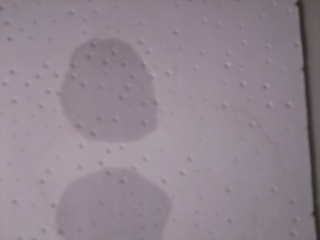Water_detected: (64, 47, 144, 130), (73, 179, 156, 240)
